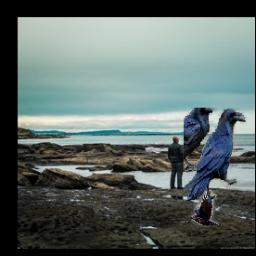Crow: (184, 109, 247, 204), (191, 191, 219, 226)
